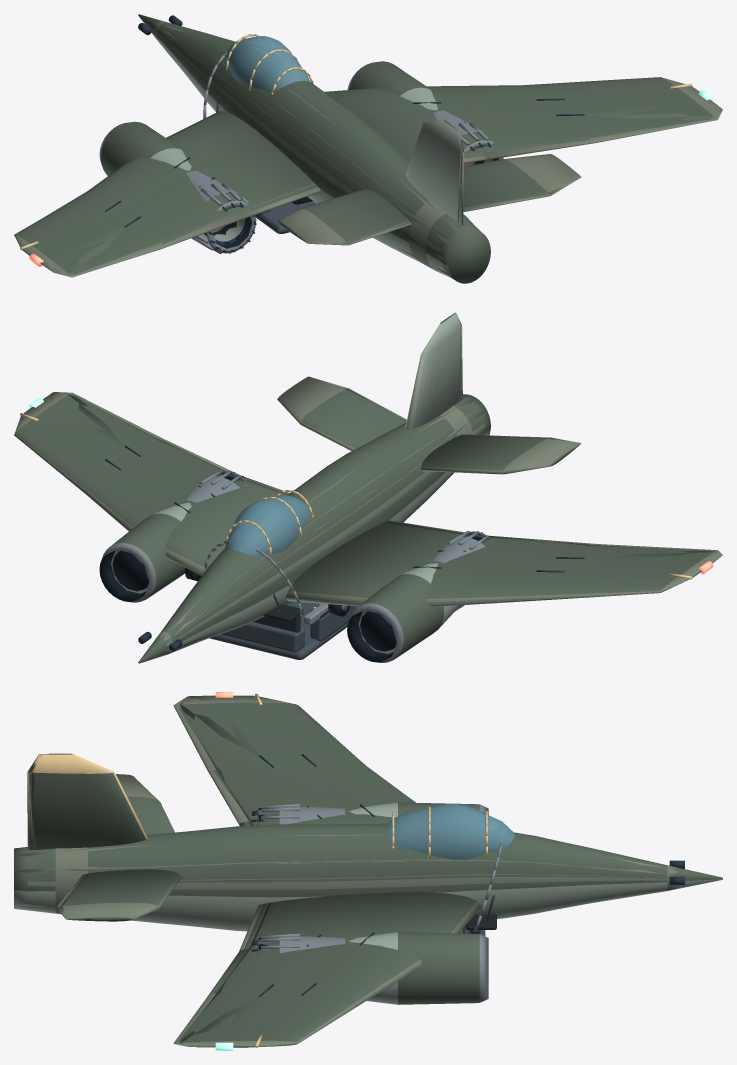
3 renders of one model, top to bottom at view 1: azimuth 30°, elevation 25°; view 2: azimuth 150°, elevation 25°; view 3: azimuth 270°, elevation 25°, orthographic. The views are drawn at different scales.
Visible parts, largest first — view 1: Airframe shell mesh, Airframe shell.001 mesh, Airframe shell.002 mesh, Canopy glass, Canopy glass.001, Hinged Aileron.001, Cockpit shell mesh, Hinged Aileron, Canopy glass.002; view 2: Airframe shell mesh, Airframe shell.001 mesh, Airframe shell.002 mesh, Cockpit shell mesh, Canopy glass, Canopy glass.001, Canopy glass.002; view 3: Airframe shell mesh, Airframe shell.001 mesh, Airframe shell.002 mesh, Canopy glass, Canopy glass.001, Canopy glass.002, Hinged Aileron, Cockpit shell mesh, Hinged Aileron.001.
Part boxes in pixels (x1,y1,x2,y2): Airframe shell mesh: [14, 14, 713, 283]; Airframe shell.001 mesh: [14, 21, 721, 276]; Airframe shell.002 mesh: [45, 14, 720, 276]; Canopy glass: [225, 36, 309, 90]; Canopy glass.001: [225, 36, 309, 90]; Hinged Aileron.001: [482, 109, 722, 159]; Cockpit shell mesh: [203, 52, 315, 233]; Hinged Aileron: [46, 212, 242, 277]; Canopy glass.002: [225, 38, 307, 84]; Airframe shell mesh: [14, 315, 714, 663]; Airframe shell.001 mesh: [37, 313, 721, 662]; Airframe shell.002 mesh: [45, 313, 720, 663]; Cockpit shell mesh: [203, 541, 357, 659]; Canopy glass: [225, 495, 310, 556]; Canopy glass.001: [225, 495, 309, 555]; Canopy glass.002: [226, 495, 305, 555]; Airframe shell mesh: [14, 692, 722, 1050]; Airframe shell.001 mesh: [14, 695, 674, 1047]; Airframe shell.002 mesh: [14, 696, 722, 1046]; Canopy glass: [386, 803, 513, 859]; Canopy glass.001: [386, 803, 511, 859]; Canopy glass.002: [386, 804, 514, 842]; Hinged Aileron: [173, 696, 248, 823]; Cockpit shell mesh: [459, 840, 503, 936]; Hinged Aileron.001: [173, 948, 248, 1046].
Size of the model in its own units: 12.78 by 3.38 by 10.81.
